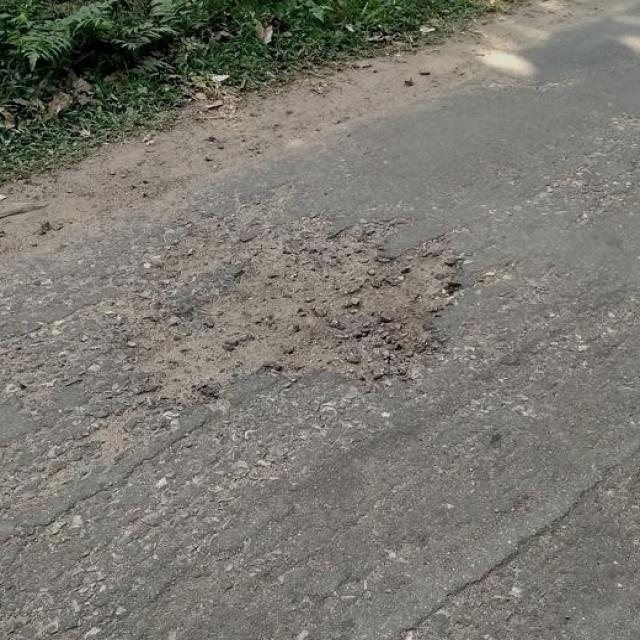road-pothole: (88, 213, 470, 473)
